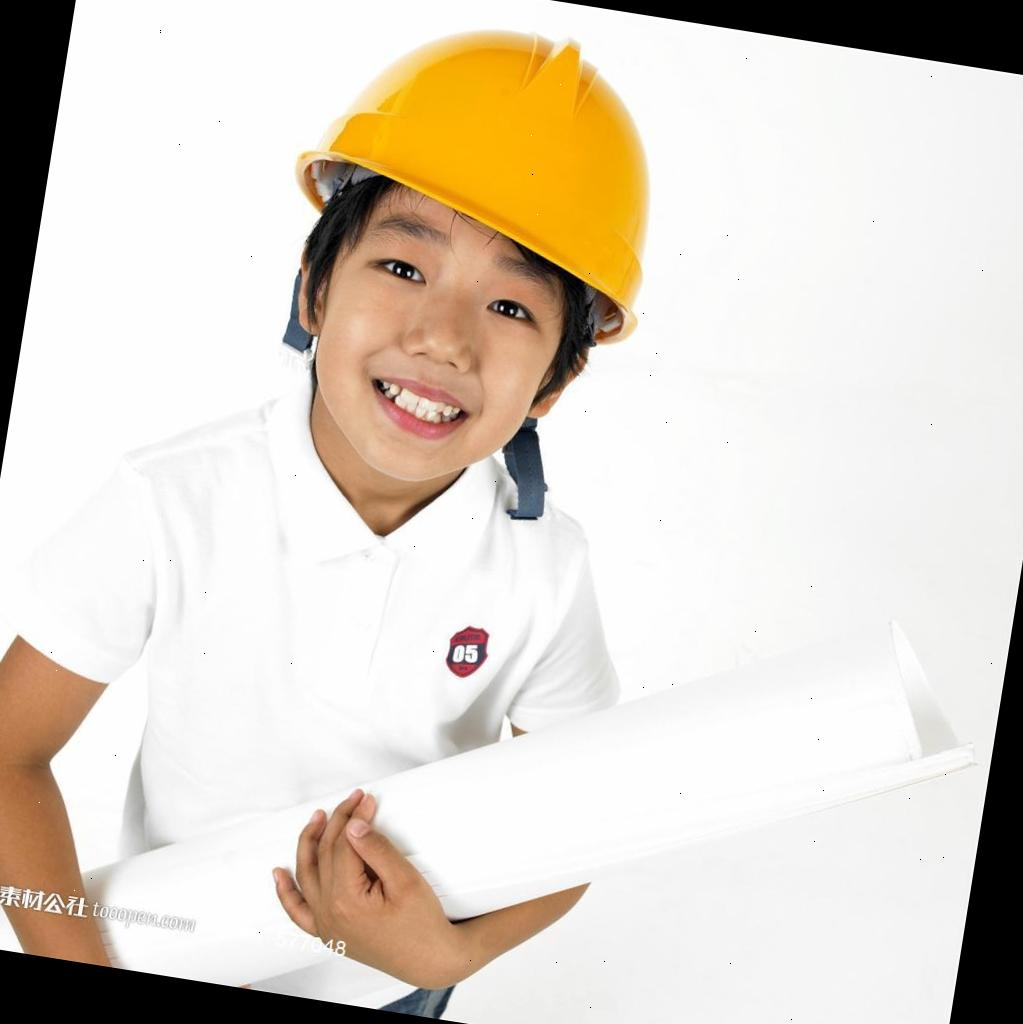helmet: (258, 0, 716, 352)
no_wear: (67, 425, 574, 1024)
